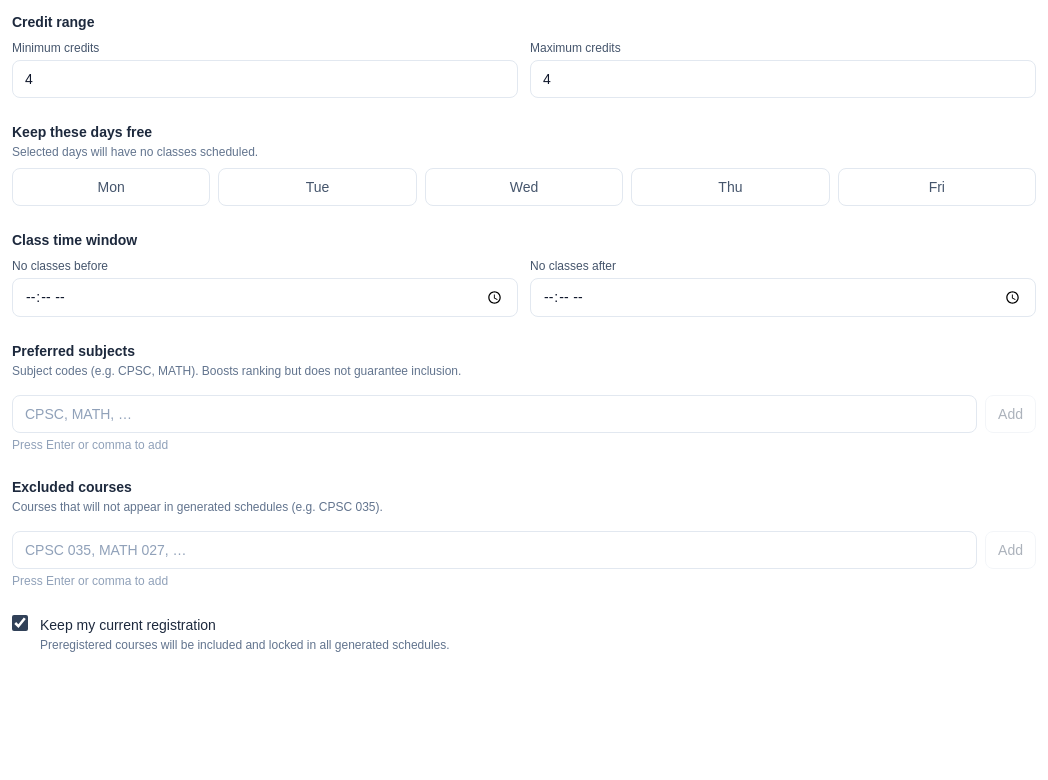
Test: PreferencesForm › validates max < min credits
Replace the text in the number field labelled "Maximum credits" with "2" at (783,79), box [530,60,1036,98]
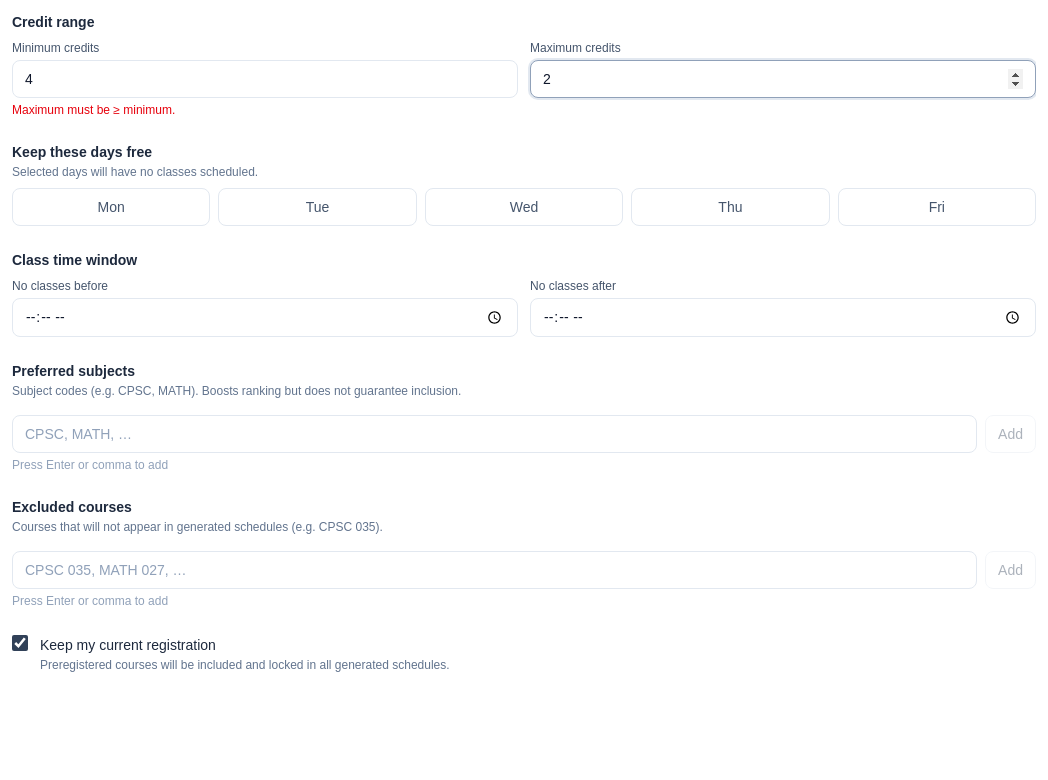
Now the text "Maximum must be ≥ minimum." is shown, box [12,103,175,117]
